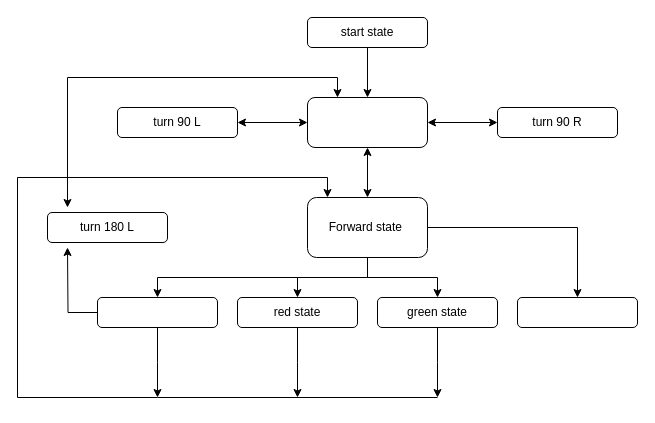
The diagram is 655 pixels wide and 423 high, and some of its shapes have lost their labels. The shapes that lost their labels are listed below. From the top down, each one's centre as x and y in pixels, then its label:
point (367, 122): Mapping state
point (157, 312): black state
point (577, 312): end state
